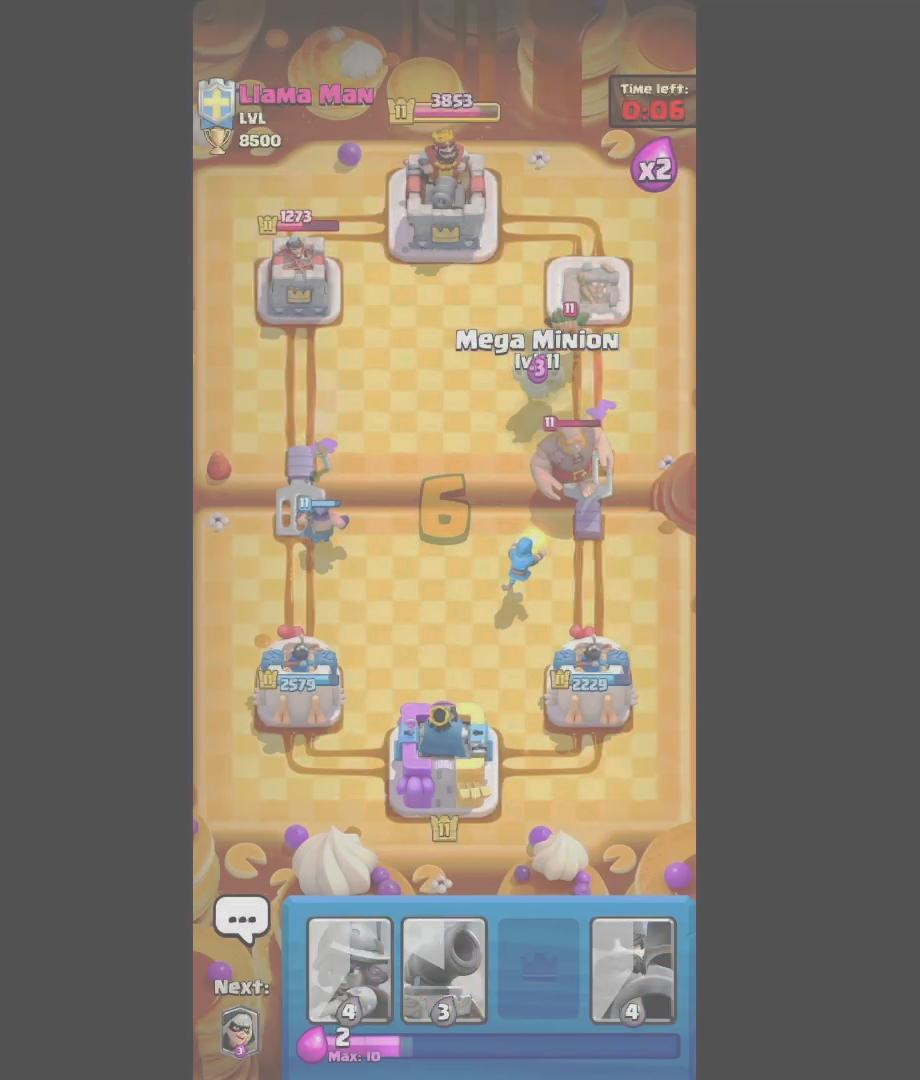Dart Goblin: (542, 298, 593, 356)
Giant: (527, 410, 616, 510)
